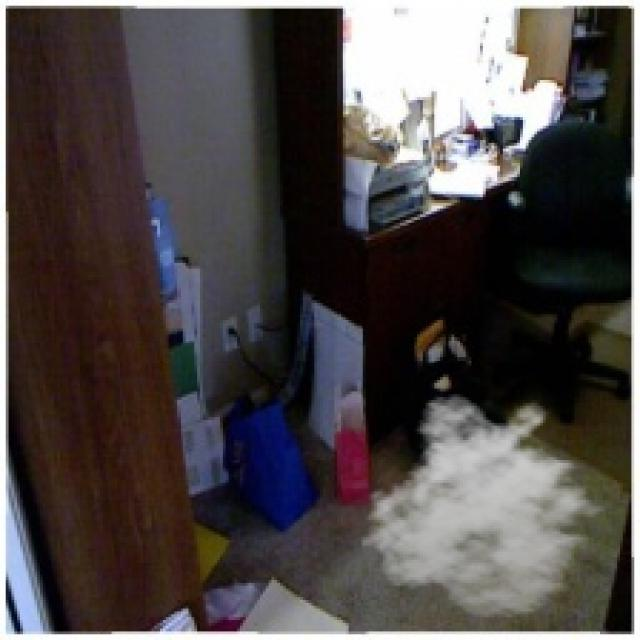smoke: (357, 391, 620, 620)
